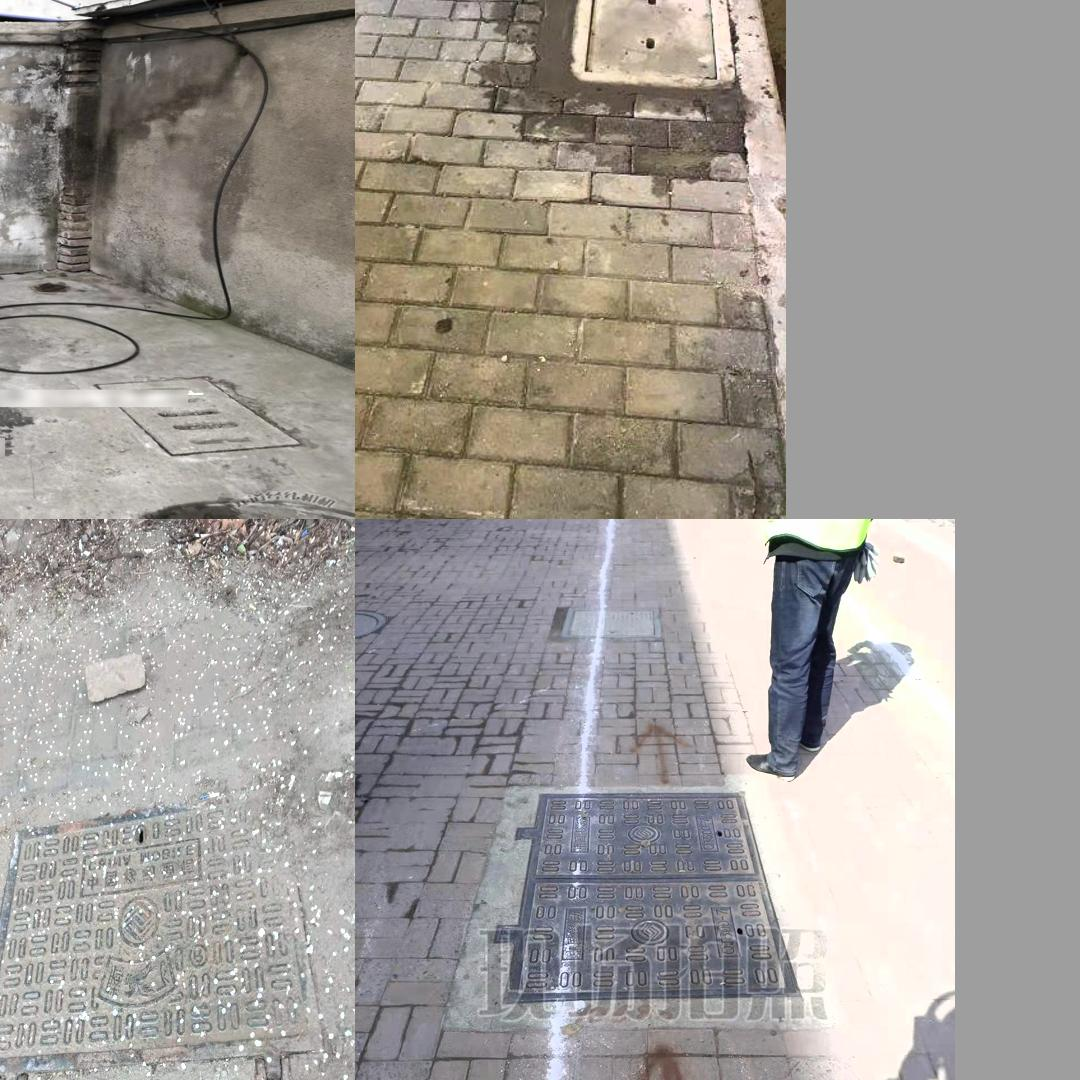good: (0, 793, 325, 1080), (492, 786, 805, 1002), (515, 0, 734, 139), (559, 603, 662, 638)
